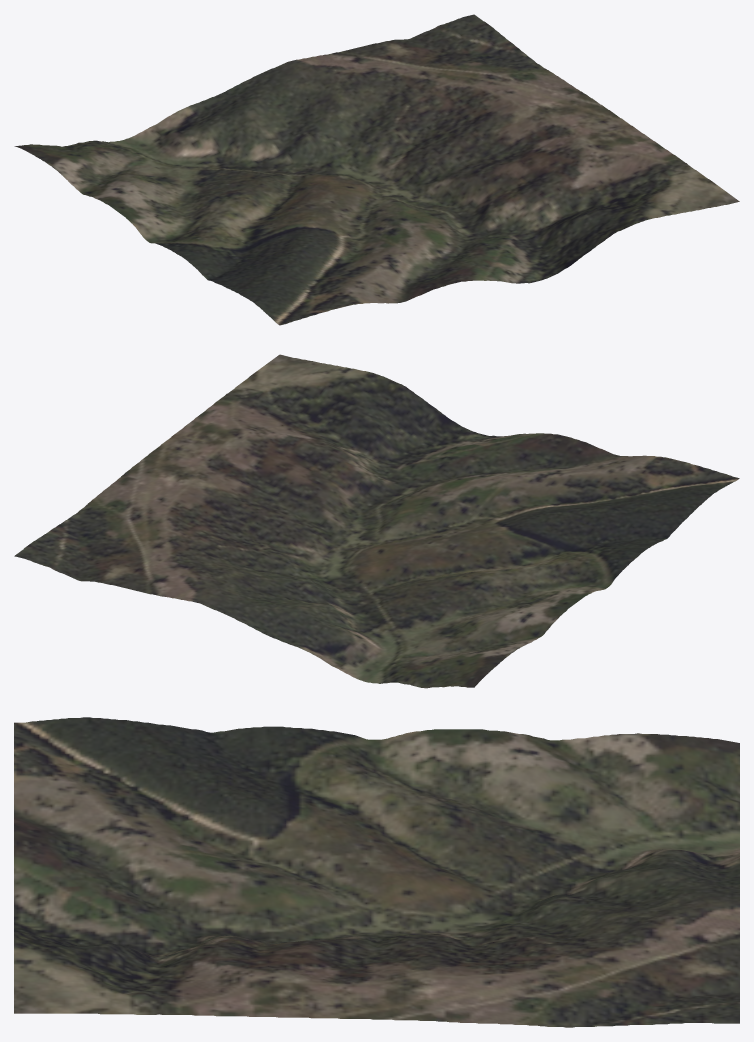
The model's file is tile_5_1.glb.
The picture shows the model from 3 angles, top to bottom: view 1: azimuth 30°, elevation 25°; view 2: azimuth 150°, elevation 25°; view 3: azimuth 270°, elevation 25°; orthographic projection. The views are drawn at different scales.
Visible parts, largest first — view 1: tile_5_1; view 2: tile_5_1; view 3: tile_5_1.
Boxes of the visible parts, x1,y1,x2,y2 form: tile_5_1: (14,14,739,325); tile_5_1: (14,354,739,688); tile_5_1: (14,717,739,1027).
Bounding box in the file's own units: 1000 × 107 × 1000.
Materials: 1 (1 with a texture image).
